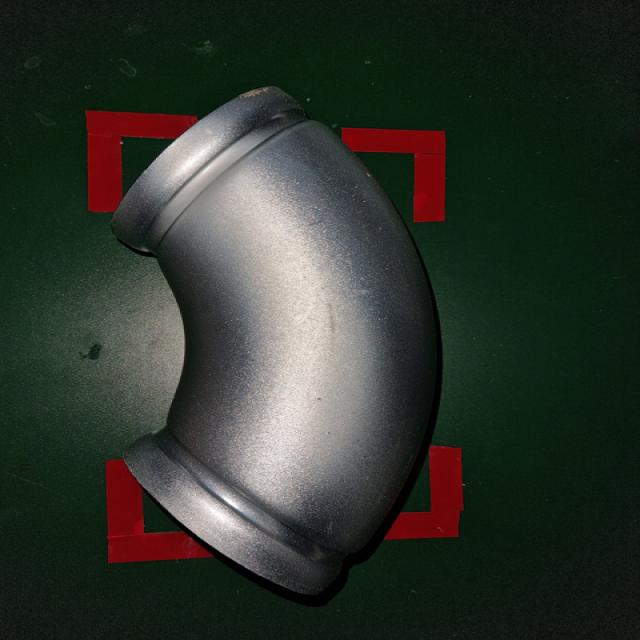Normal: (105, 81, 457, 608)
